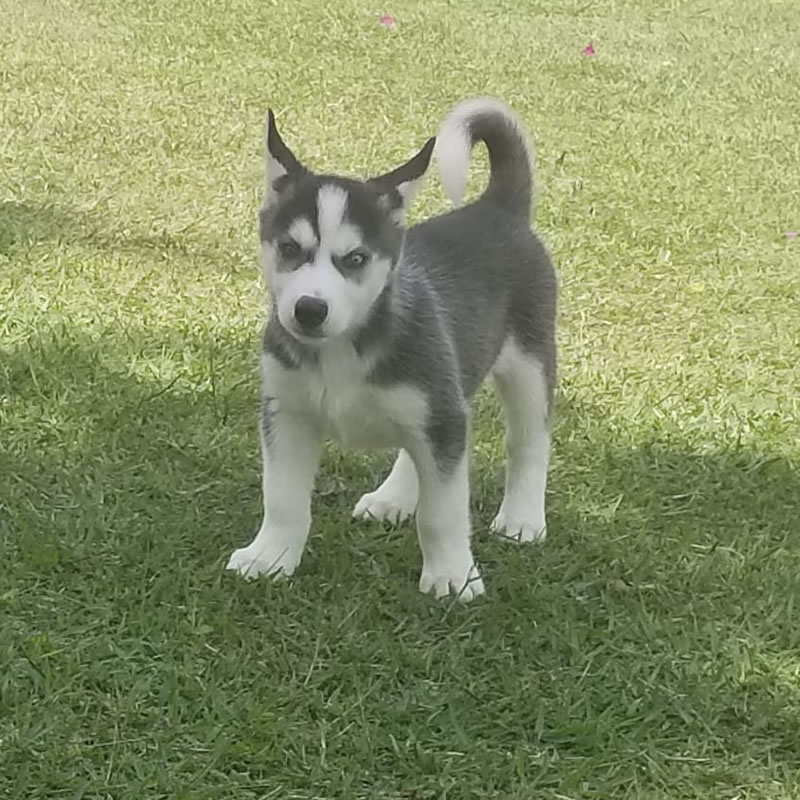husky: (214, 85, 529, 470)
